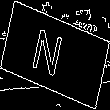N_S: (36, 25, 74, 85)
